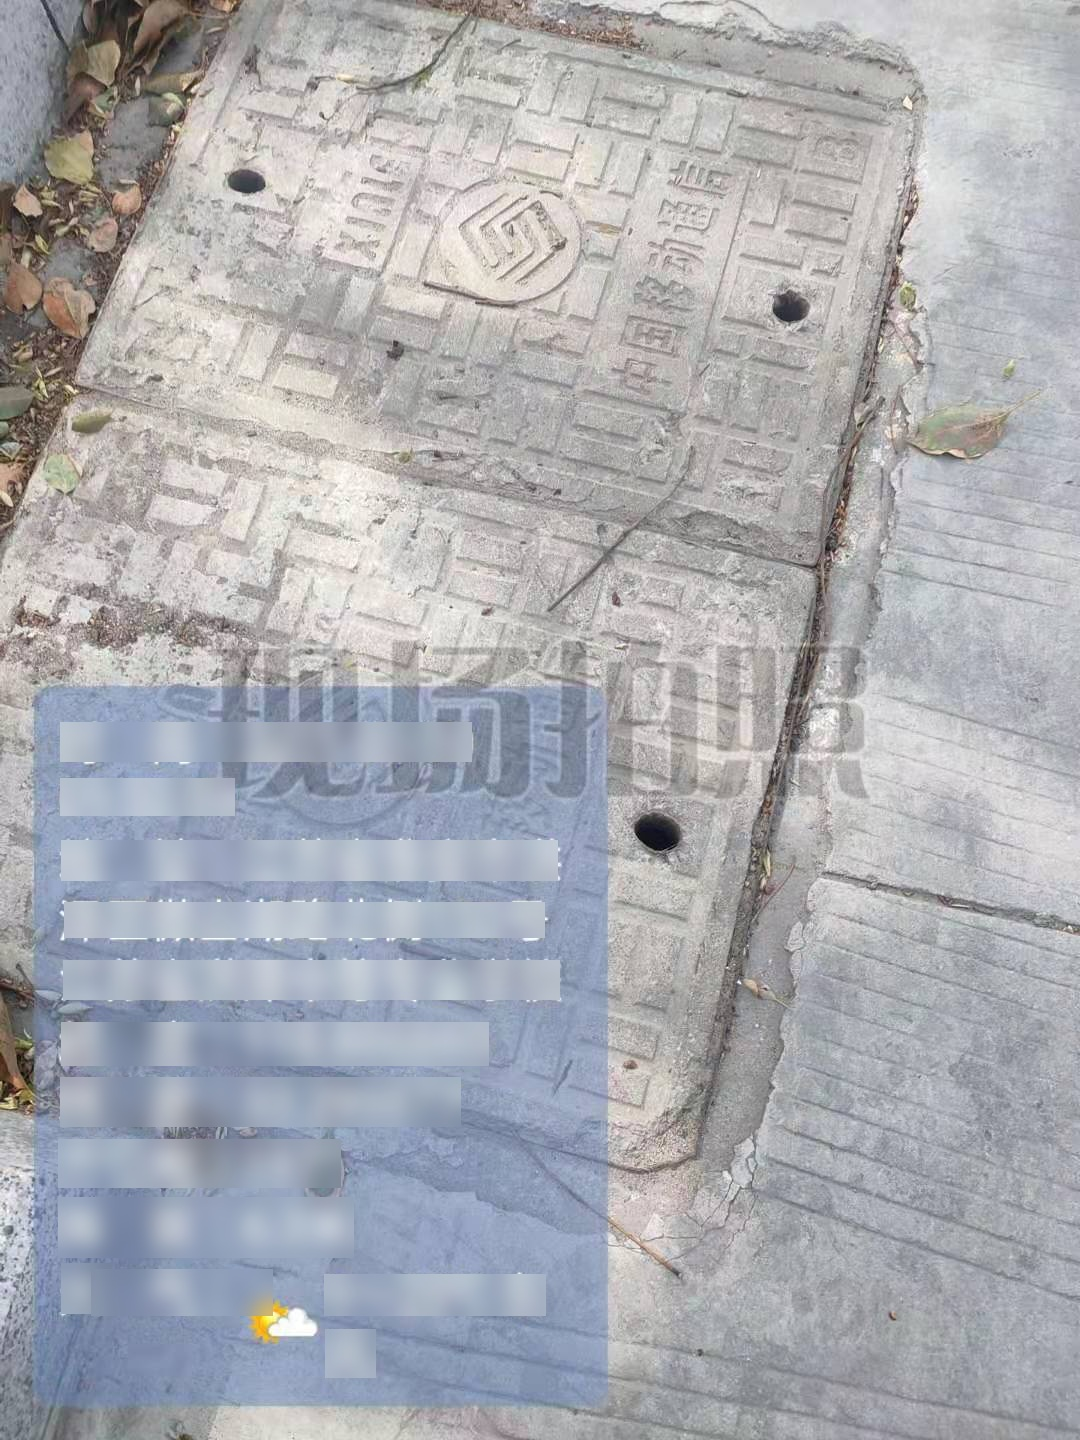good: (1, 1, 926, 1181)
